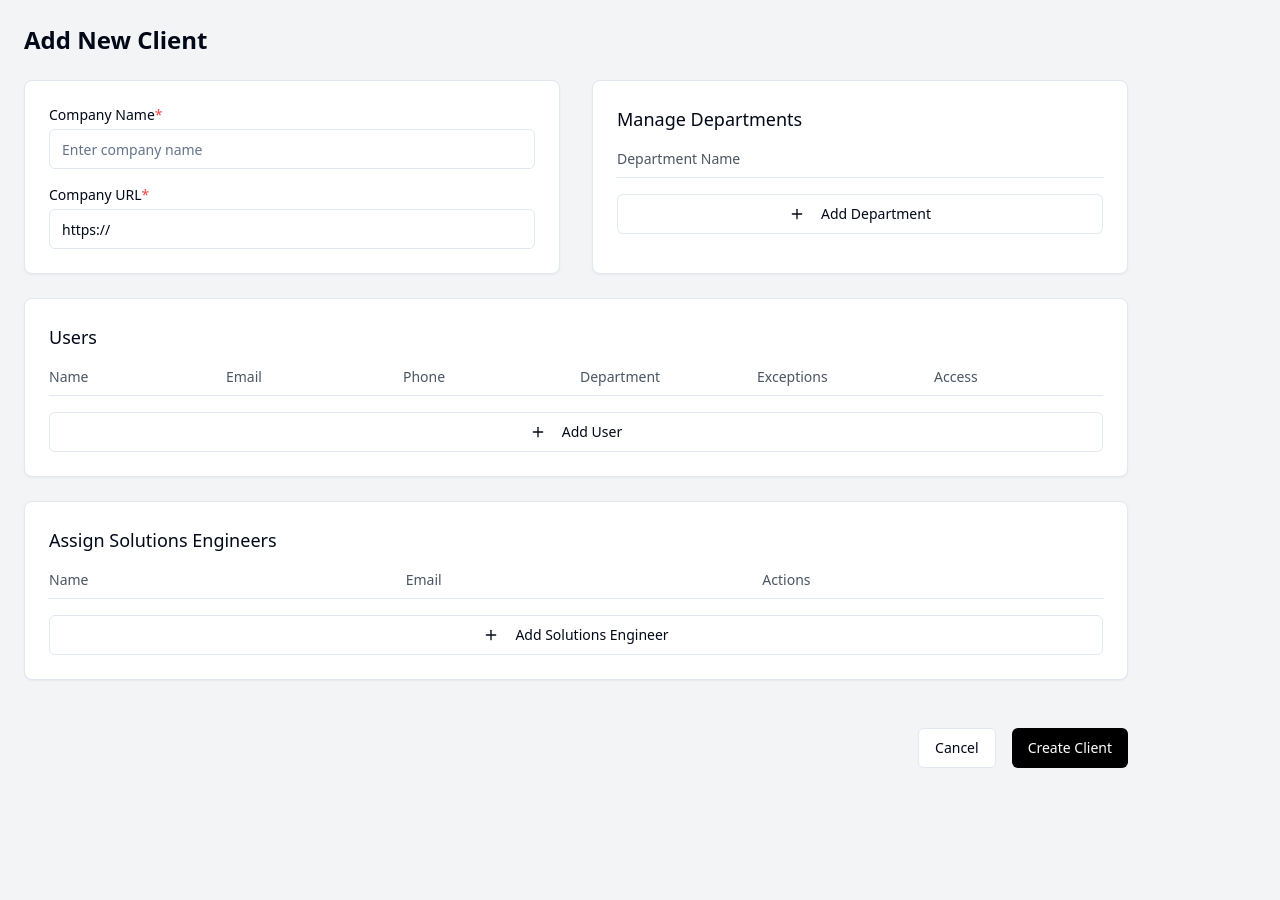
Test case: ClientManagement › allows adding users
Click the button "Add User": (576,432) [49, 412, 1103, 452]
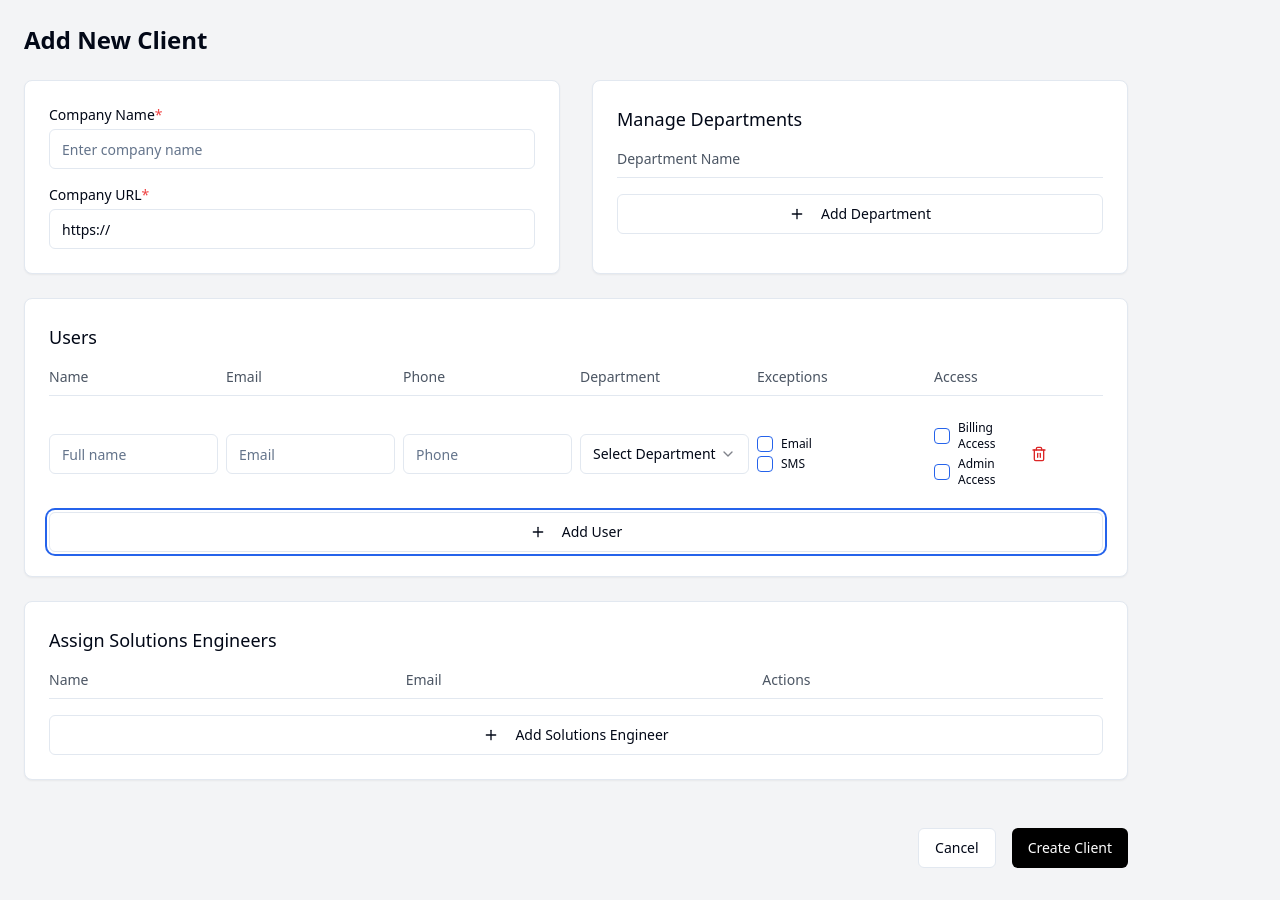
Expected: the field with placeholder "Full name" is shown, [49, 434, 218, 474]
Expected: the field with placeholder "Email" is shown, [226, 434, 395, 474]
Expected: the field with placeholder "Phone" is shown, [403, 434, 572, 474]
